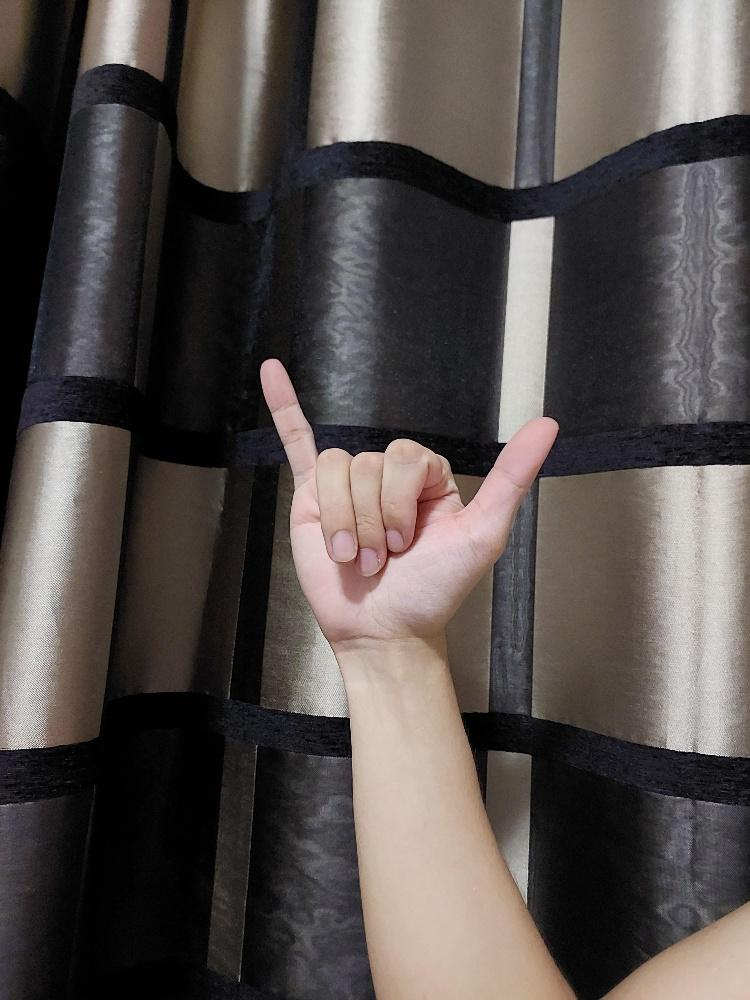y: (258, 356, 560, 640)
